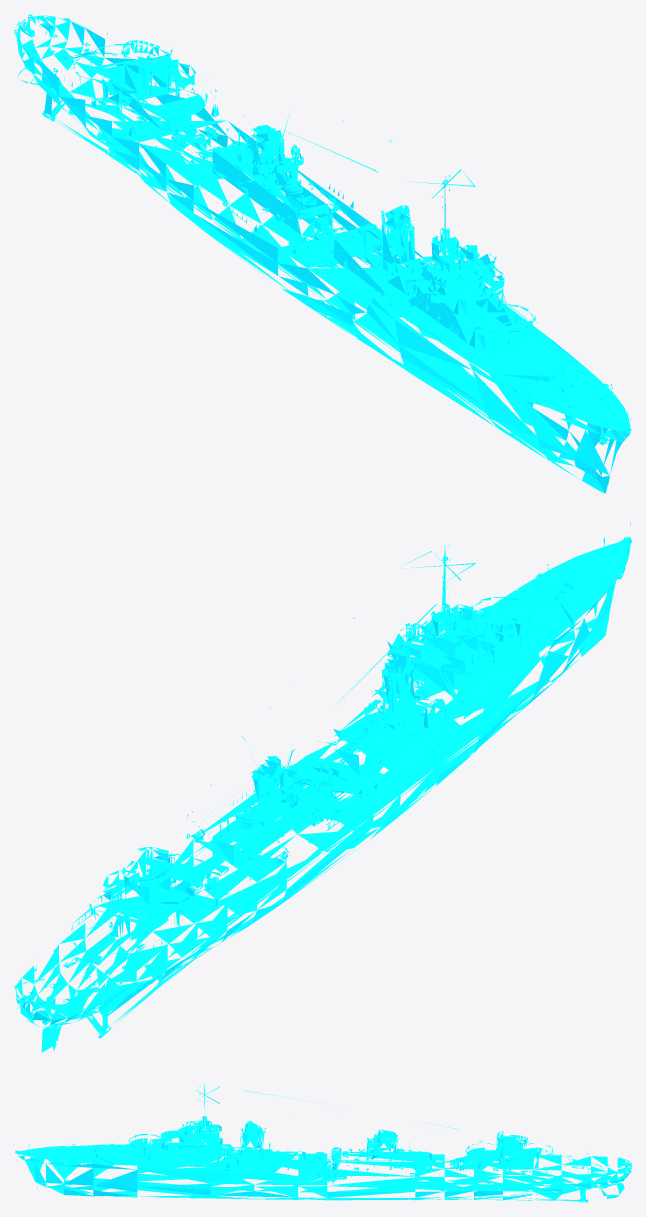
The model's file is Le_Terrible.glb.
The picture shows the model from 3 angles, top to bottom: view 1: azimuth 30°, elevation 25°; view 2: azimuth 150°, elevation 25°; view 3: azimuth 270°, elevation 25°; orthographic projection. The views are drawn at different scales.
Bounding box in the file's own units: 0.822 × 1.83 × 8.83.
